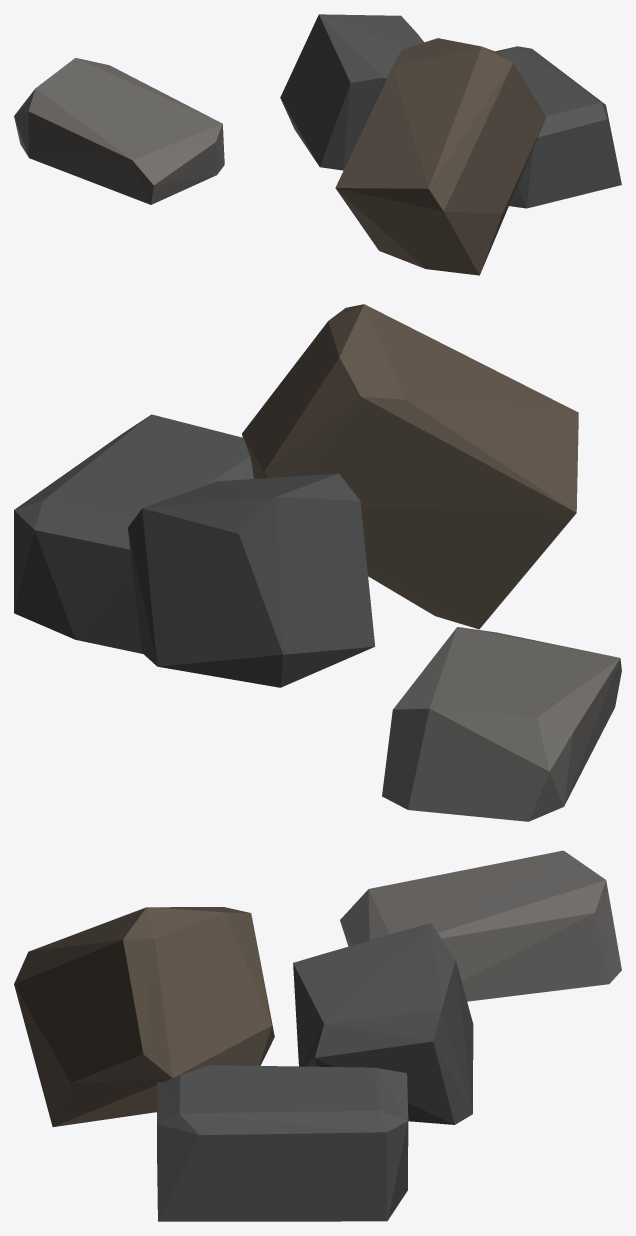
The model's file is um_wall007.FBX.
3 renders of one model, top to bottom at view 1: azimuth 30°, elevation 25°; view 2: azimuth 150°, elevation 25°; view 3: azimuth 270°, elevation 25°, orthographic. The views are drawn at different scales.
Visible parts, largest first — view 1: um_wall007; view 2: um_wall007; view 3: um_wall007.
Boxes of the visible parts, <box> form: um_wall007: <box>14,14,621,275</box>; um_wall007: <box>14,304,621,821</box>; um_wall007: <box>14,850,621,1221</box>.
Size of the model in its own units: 1.74 by 0.7339 by 1.63.
